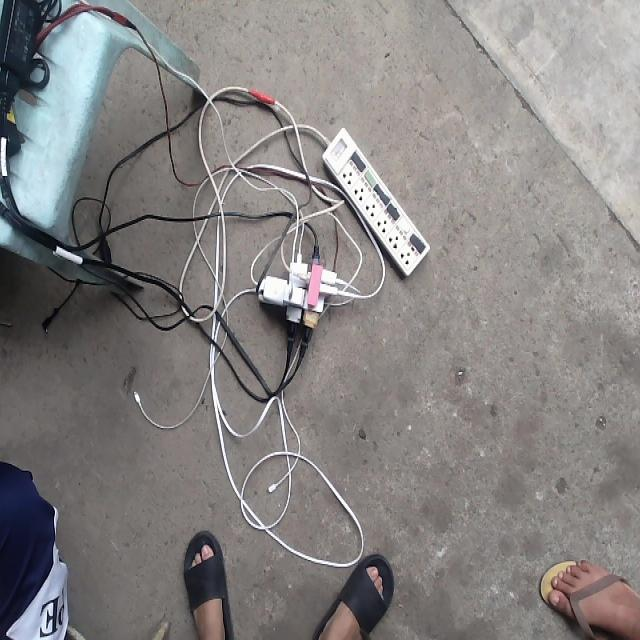-: (254, 251, 336, 344)
